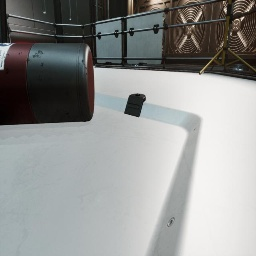NitrogenTank ,: (0, 43, 94, 125)
